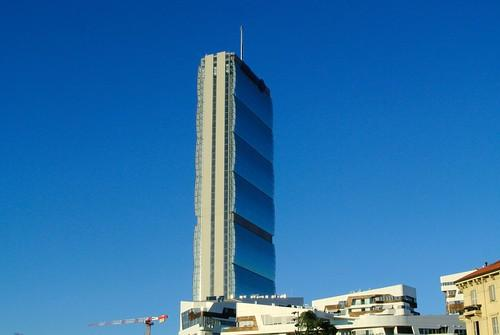building: (189, 46, 280, 301)
